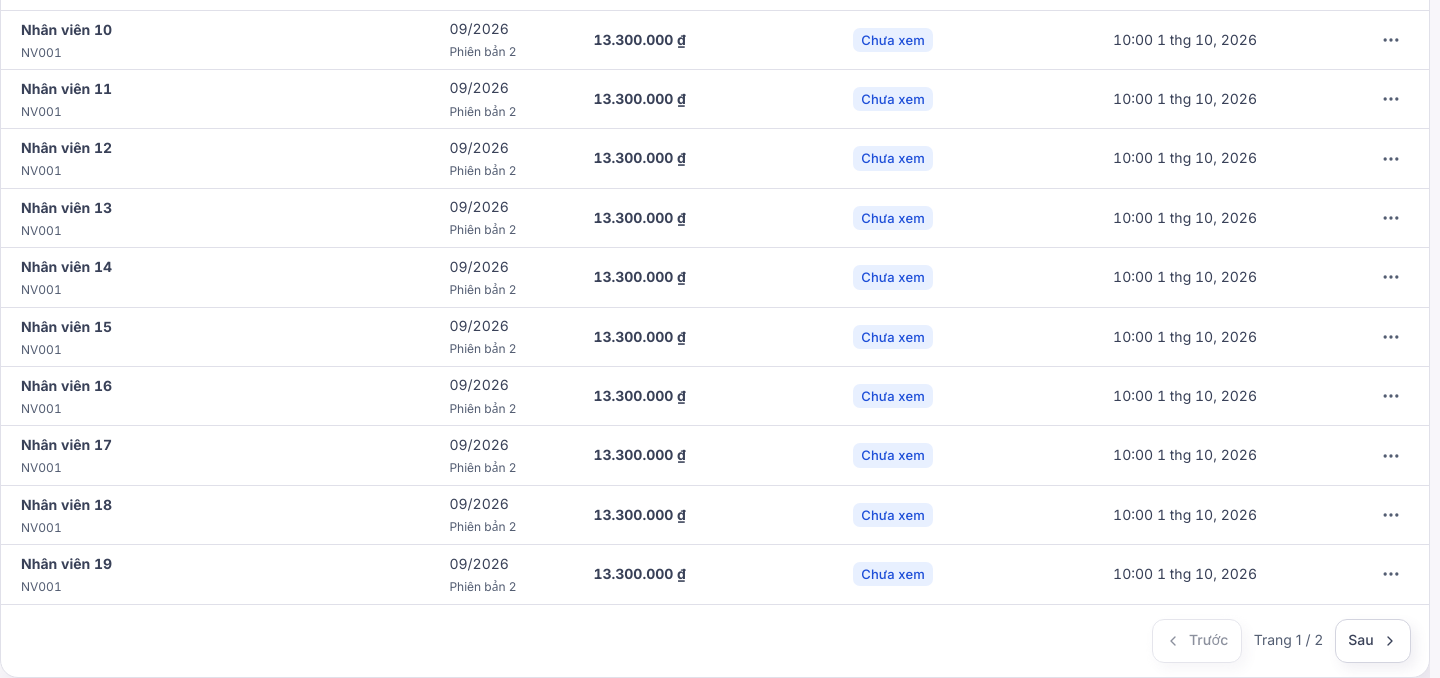
Scenario: payslip worklist › paginates current slips and resets the page after a search
The image size is (1440, 678).
(page scrolled)
Click the button "Sau" at (1373, 640), box [1335,618,1411,662]
(page scrolled)
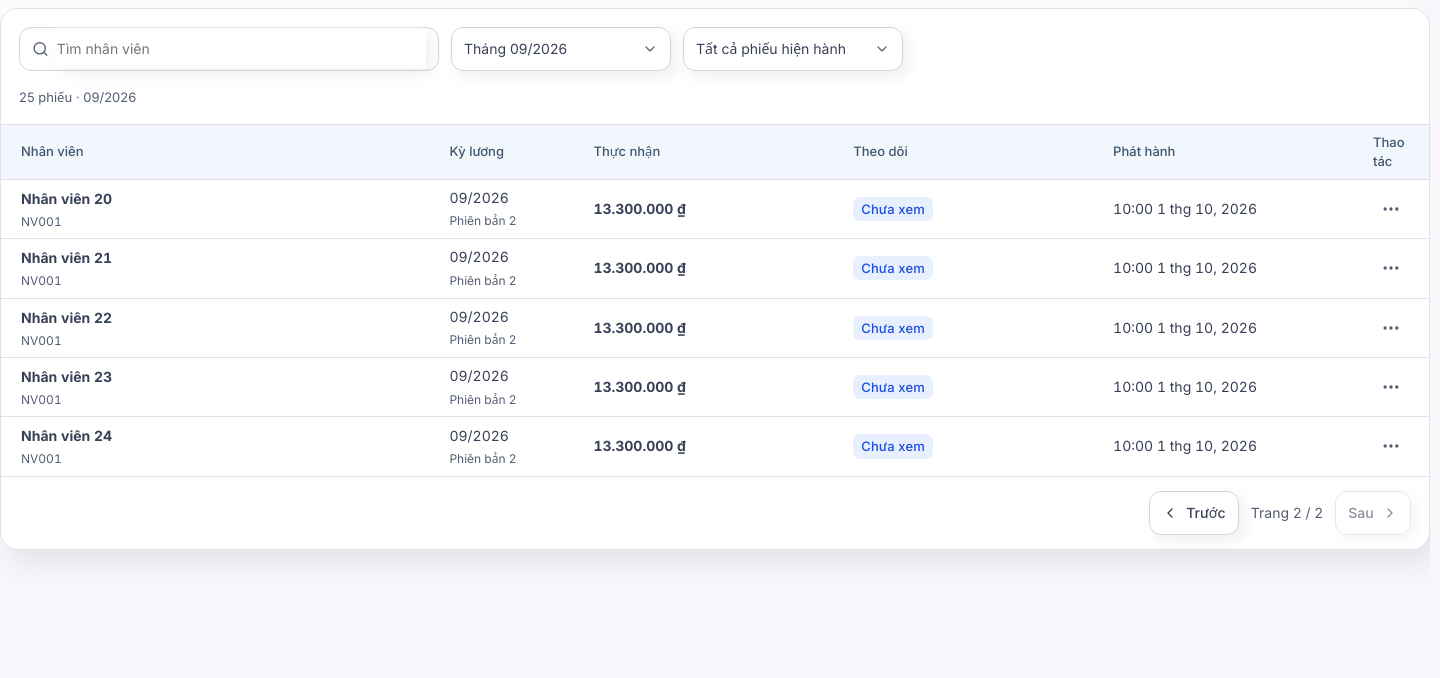
Result: the number of rows is 6 at [1,125,1429,179]; [1,179,1429,239]; [1,239,1429,298]; [1,298,1429,357]; [1,357,1429,417]; [1,417,1429,476]
Type "Nhân viên 00" into the search field named "Tìm phiếu lương" at (241, 49), box [57,30,426,68]
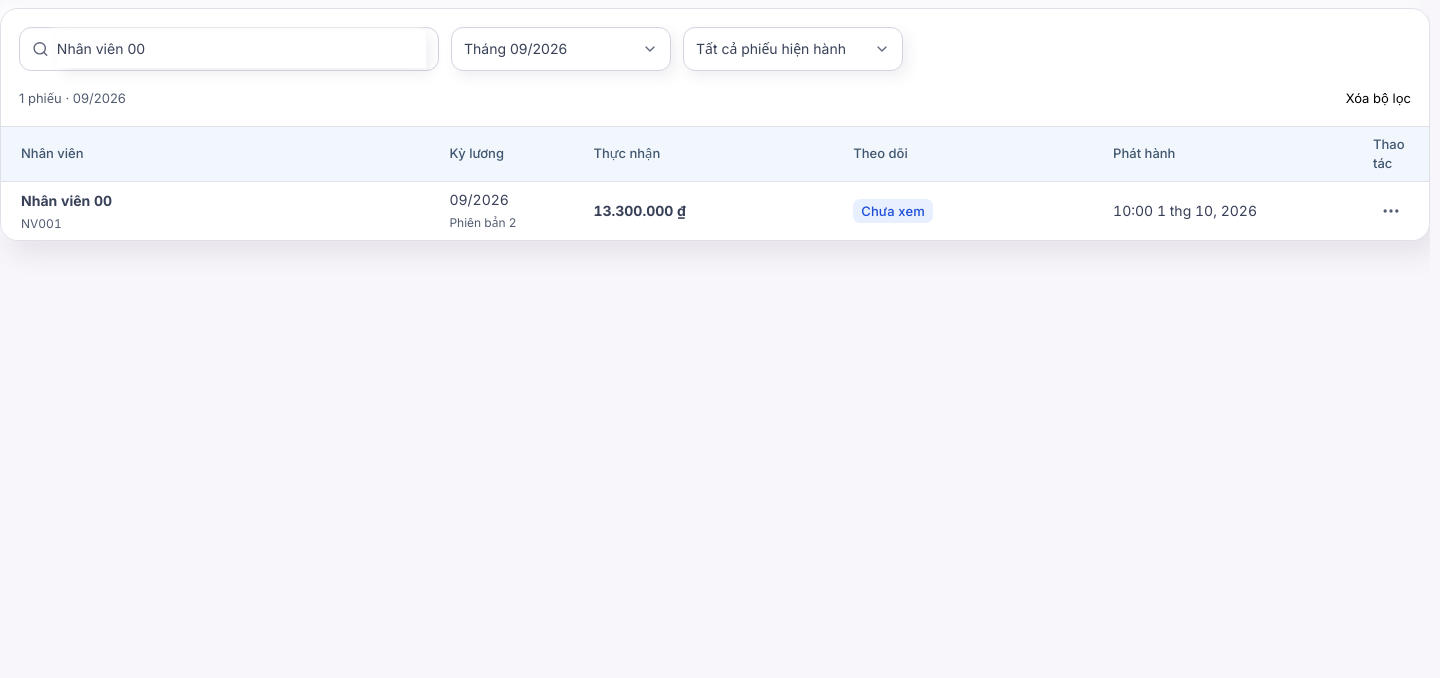
Result: the number of rows is 2 at [1,127,1429,181]; [1,181,1429,240]
Result: the link "Nhân viên 00 NV001" is shown at [21,192,112,231]
